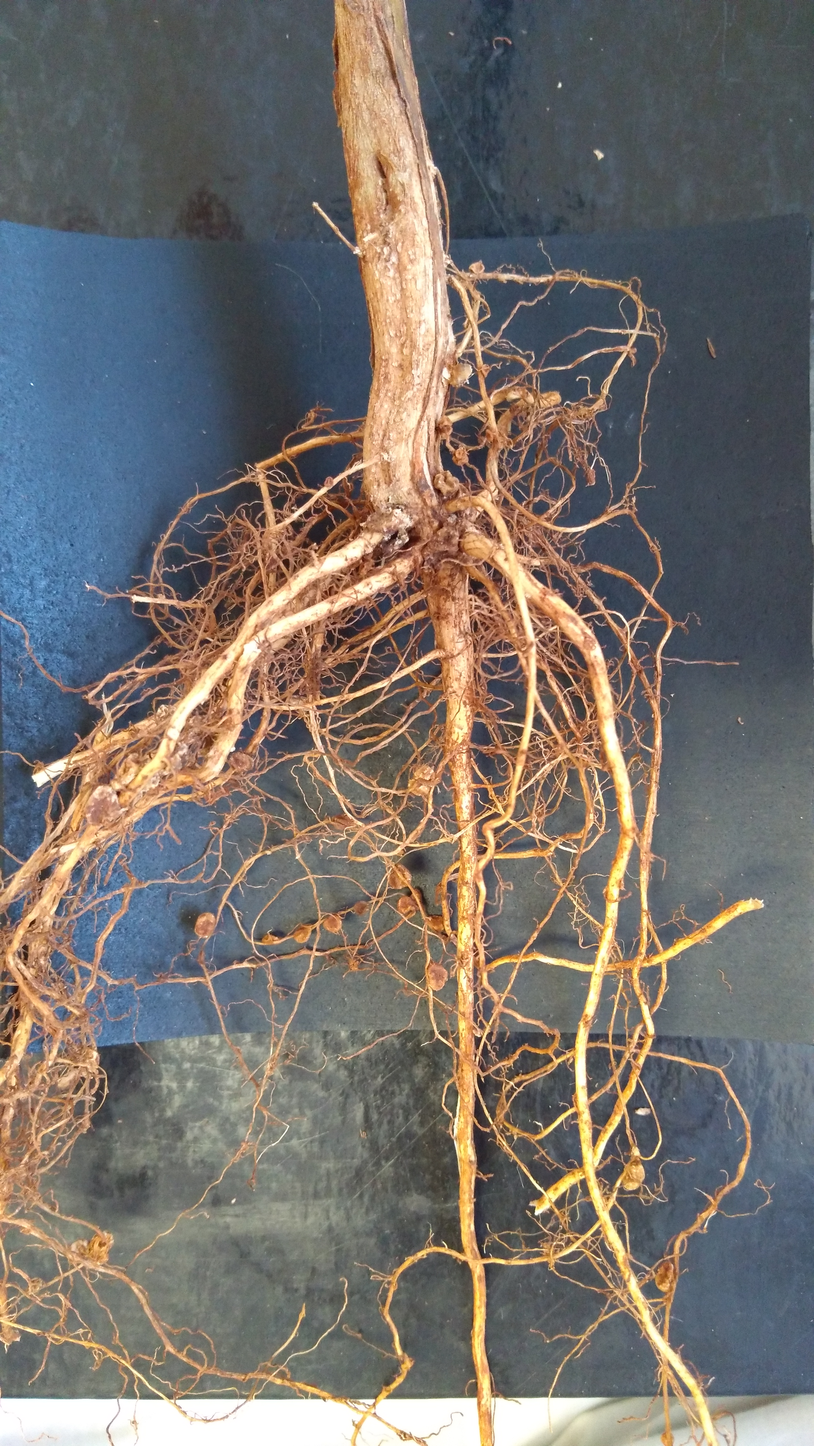nodule: (107, 749, 150, 794), (81, 784, 124, 828), (358, 507, 418, 538), (420, 522, 464, 563), (84, 1228, 120, 1268), (370, 530, 412, 562), (620, 1151, 647, 1196), (446, 357, 474, 395), (424, 956, 451, 993), (433, 468, 464, 500), (190, 911, 220, 941), (224, 749, 257, 776), (653, 1258, 677, 1295), (383, 862, 414, 890), (504, 384, 536, 410), (537, 387, 564, 412), (66, 1236, 91, 1261), (291, 921, 316, 945), (404, 778, 432, 799), (425, 913, 449, 937), (436, 413, 455, 442), (409, 762, 436, 782), (448, 447, 473, 467), (396, 895, 421, 914), (321, 913, 343, 934), (350, 899, 374, 917), (154, 701, 173, 719), (468, 258, 488, 275), (409, 887, 424, 903), (261, 933, 282, 944), (481, 361, 493, 380), (322, 476, 336, 489)
